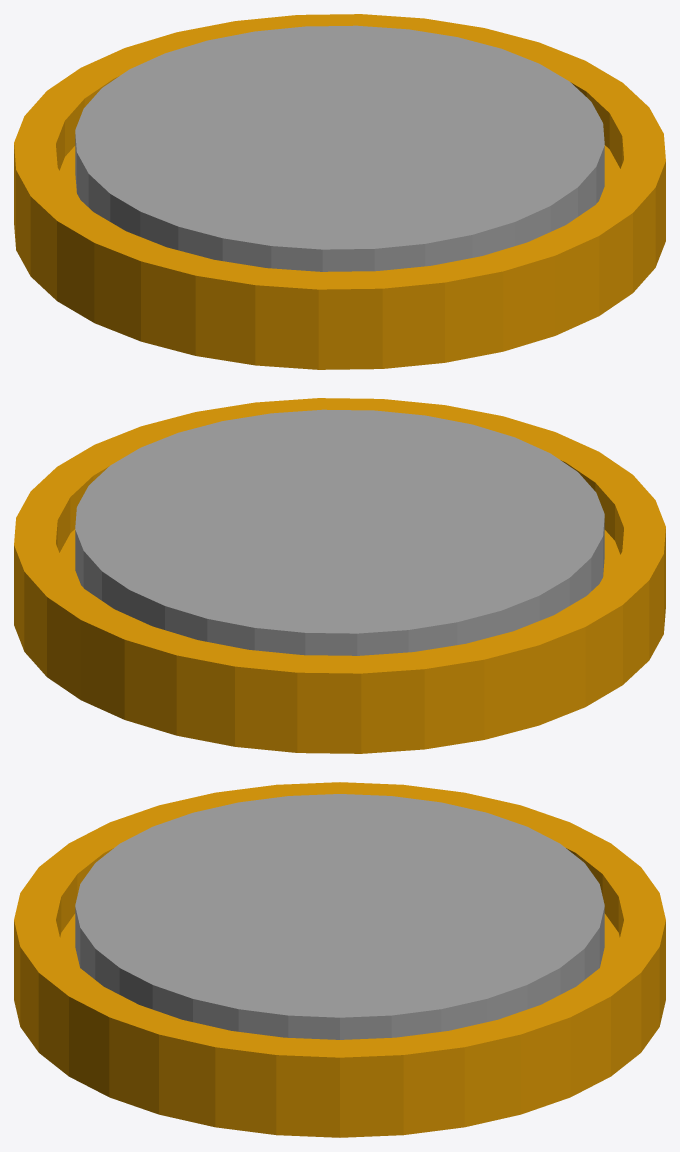
The model's file is Energy.fbx.
3 views of the same model, one above another, from view 1: azimuth 30°, elevation 25°; view 2: azimuth 150°, elevation 25°; view 3: azimuth 270°, elevation 25° (orthographic).
Parts seen in each view (by area): view 1: Cylinder.002, Cylinder; view 2: Cylinder.002, Cylinder; view 3: Cylinder.002, Cylinder.
Boxes of the visible parts, <box> form: Cylinder.002: <box>75,25,604,271</box>; Cylinder: <box>14,14,665,369</box>; Cylinder.002: <box>75,409,604,655</box>; Cylinder: <box>14,398,665,753</box>; Cylinder.002: <box>75,794,604,1039</box>; Cylinder: <box>14,782,665,1137</box>.
Size of the model in its own units: 200 by 31.91 by 200.
